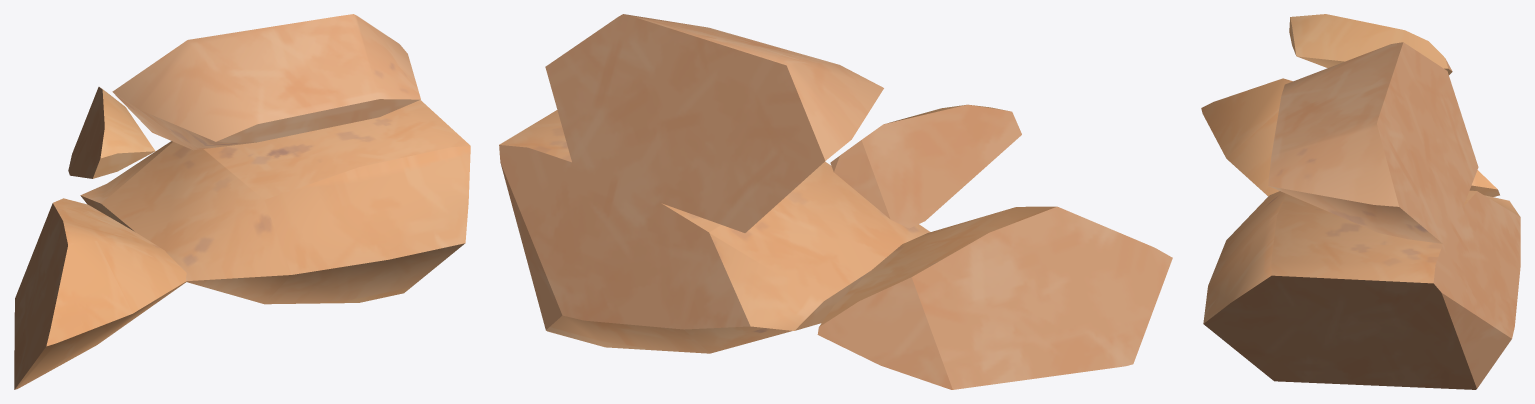
The model's file is sacks_s01.fbx.
3 views of the same model, side by side, from view 1: azimuth 30°, elevation 25°; view 2: azimuth 150°, elevation 25°; view 3: azimuth 270°, elevation 25° (orthographic). The views are drawn at different scales.
Visible parts, largest first — view 1: sacks_s01; view 2: sacks_s01; view 3: sacks_s01.
Boxes of the visible parts, bbox=[...] form: sacks_s01: bbox=[14, 14, 470, 389]; sacks_s01: bbox=[499, 14, 1172, 389]; sacks_s01: bbox=[1201, 14, 1520, 389].
Bounding box in the file's own units: 3.17 × 1.58 × 1.77.
